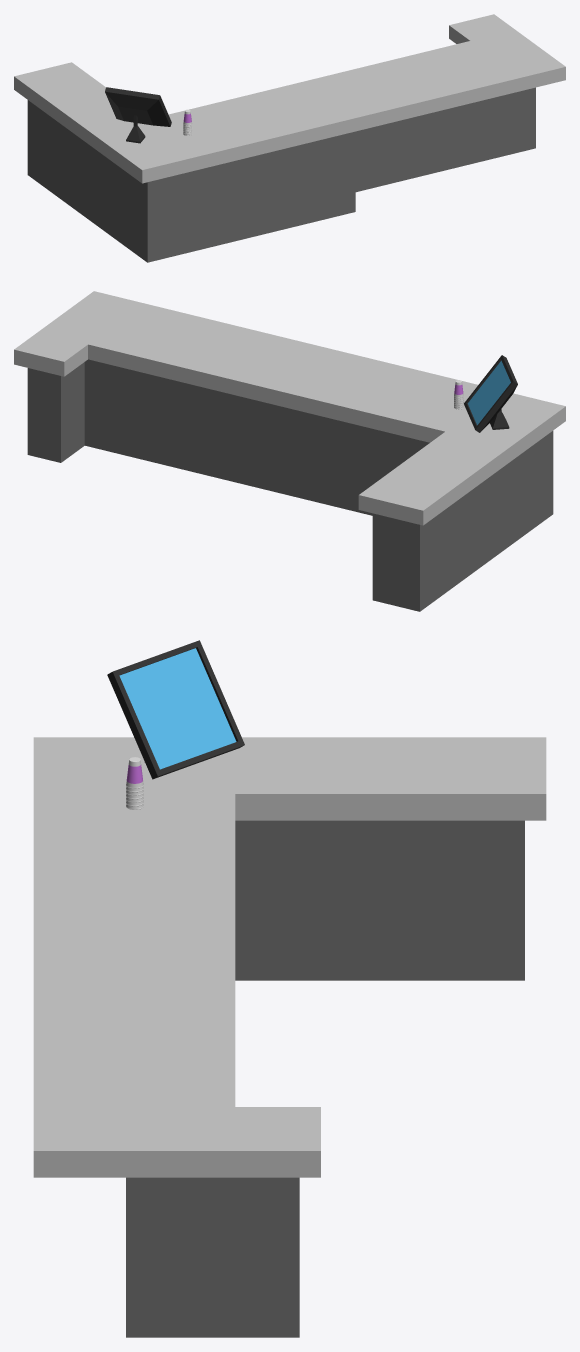
File: Counter-computer-cups.fbx
3 renders of one model, top to bottom at view 1: azimuth 30°, elevation 25°; view 2: azimuth 150°, elevation 25°; view 3: azimuth 270°, elevation 25°, orthographic. The views are drawn at different scales.
Parts seen in each view (by area): view 1: Counter Base, Counter Top, Computer; view 2: Counter Base, Counter Top, Computer; view 3: Counter Top, Counter Base, Computer, Cup Stack.
Part boxes in pixels (left/top/right/bottom): Counter Base: left=27, top=87, right=535, bottom=262; Counter Top: left=14, top=14, right=565, bottom=183; Computer: left=105, top=87, right=171, bottom=143; Counter Base: left=27, top=359, right=553, bottom=611; Counter Top: left=14, top=291, right=565, bottom=525; Computer: left=464, top=355, right=517, bottom=432; Counter Top: left=33, top=737, right=546, bottom=1177; Counter Base: left=126, top=820, right=524, bottom=1337; Computer: left=107, top=640, right=244, bottom=779; Cup Stack: left=126, top=757, right=143, bottom=809.
Bounding box in the file's own units: 461 × 154 × 242.
